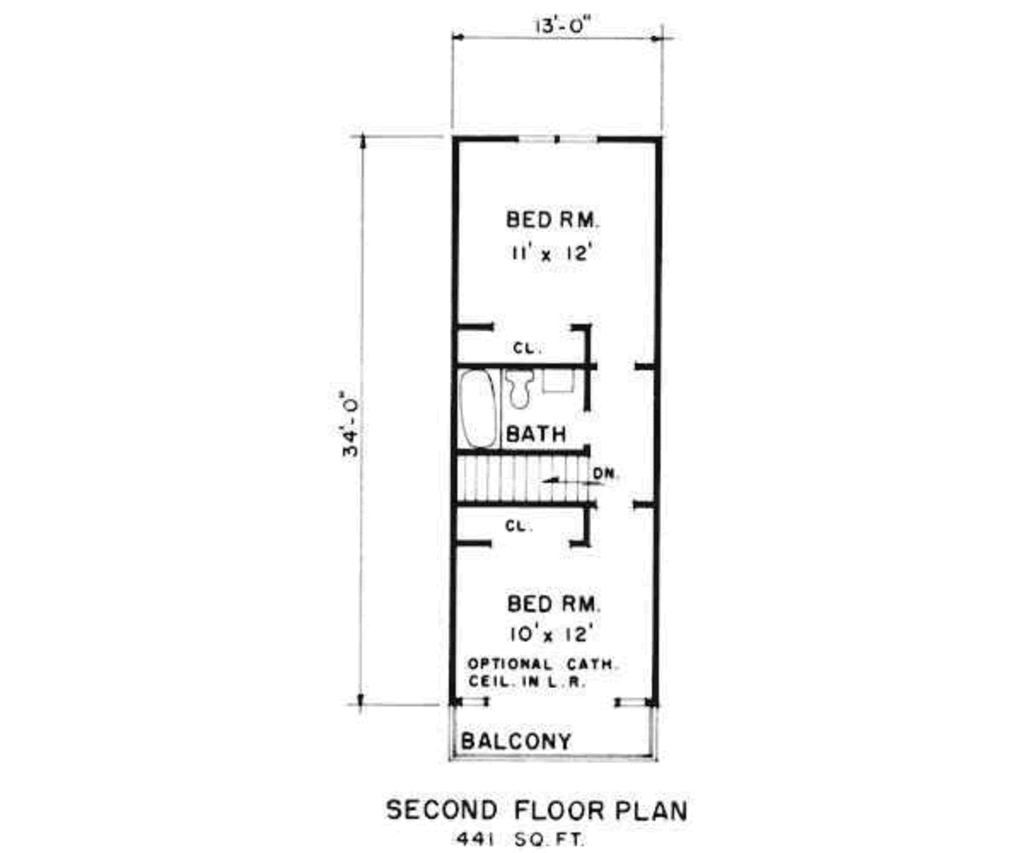large_sink: (503, 364, 544, 414)
stairs: (452, 444, 614, 506)
tub: (448, 352, 506, 452)
window: (516, 134, 607, 149)
